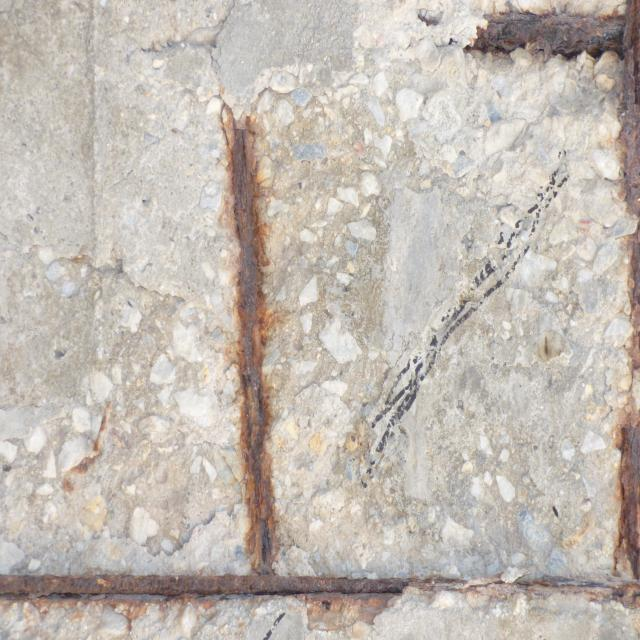corrosion: (472, 0, 640, 640), (0, 564, 640, 640), (206, 109, 304, 564)
